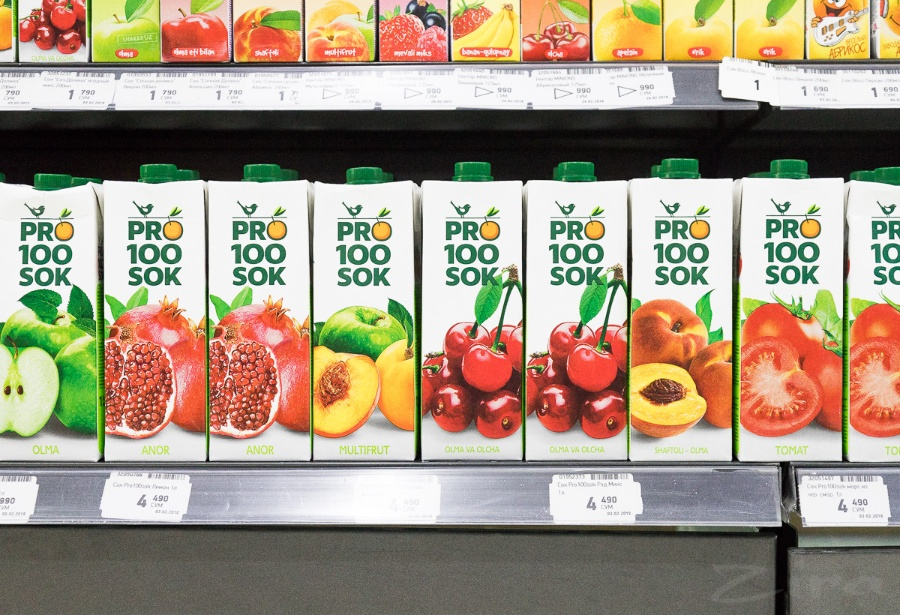juice: (735, 158, 859, 476), (515, 158, 637, 474), (1, 164, 124, 473), (624, 157, 744, 471), (102, 158, 222, 471), (311, 167, 429, 472), (421, 157, 535, 472), (210, 162, 322, 467)
